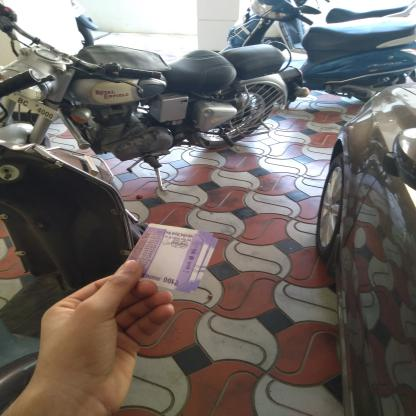New100Back: (127, 226, 213, 291)
